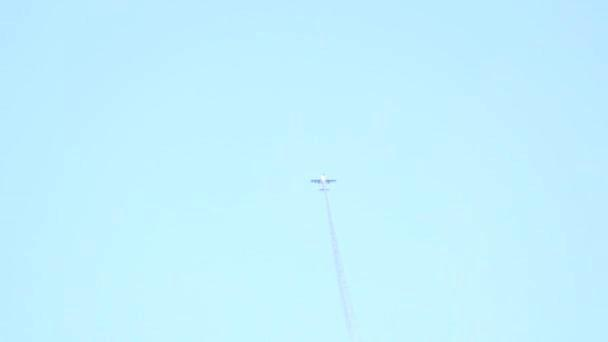Plane: (298, 169, 348, 192)
